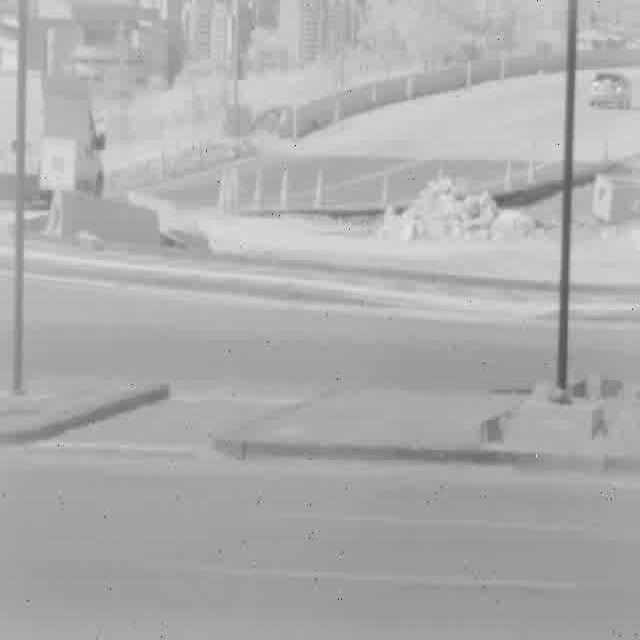Car: (1, 72, 104, 203), (592, 71, 634, 110)
